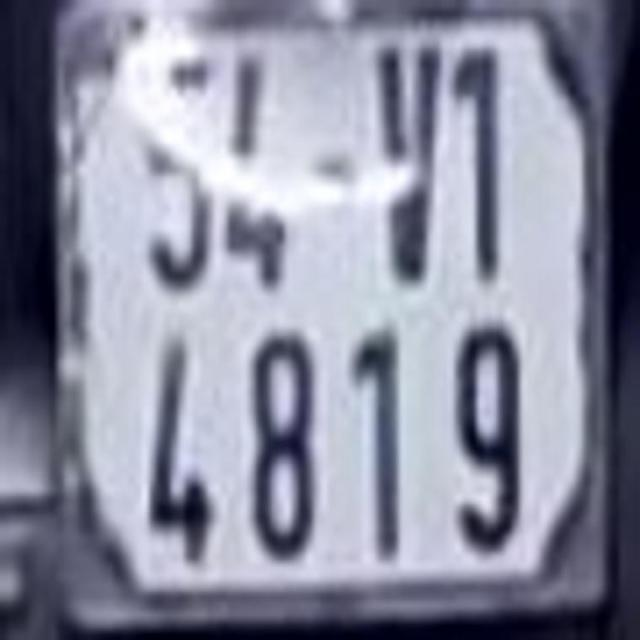1: (347, 320, 418, 559), (452, 42, 513, 284)
4: (146, 328, 226, 576), (228, 57, 287, 290)
5: (142, 56, 214, 291)
8: (250, 330, 322, 561)
9: (448, 322, 531, 556)
V: (374, 42, 445, 287)
